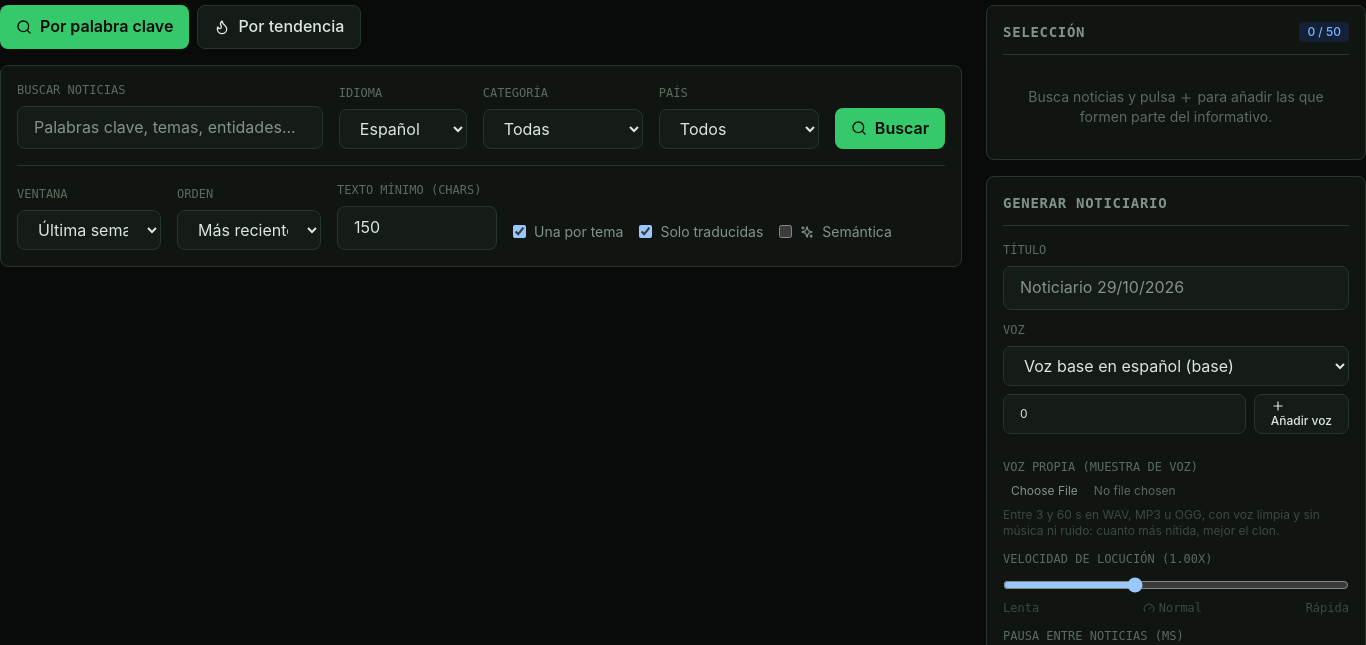
Test: Pagina de noticiario › renderiza sin AppProvider y detecta al admin desde localStorage
The image size is (1366, 645).
Type "economia" into the field with placeholder "Palabras clave, temas, entidades..." at (170,127), box top-left (17, 106), bottom-right (323, 149)
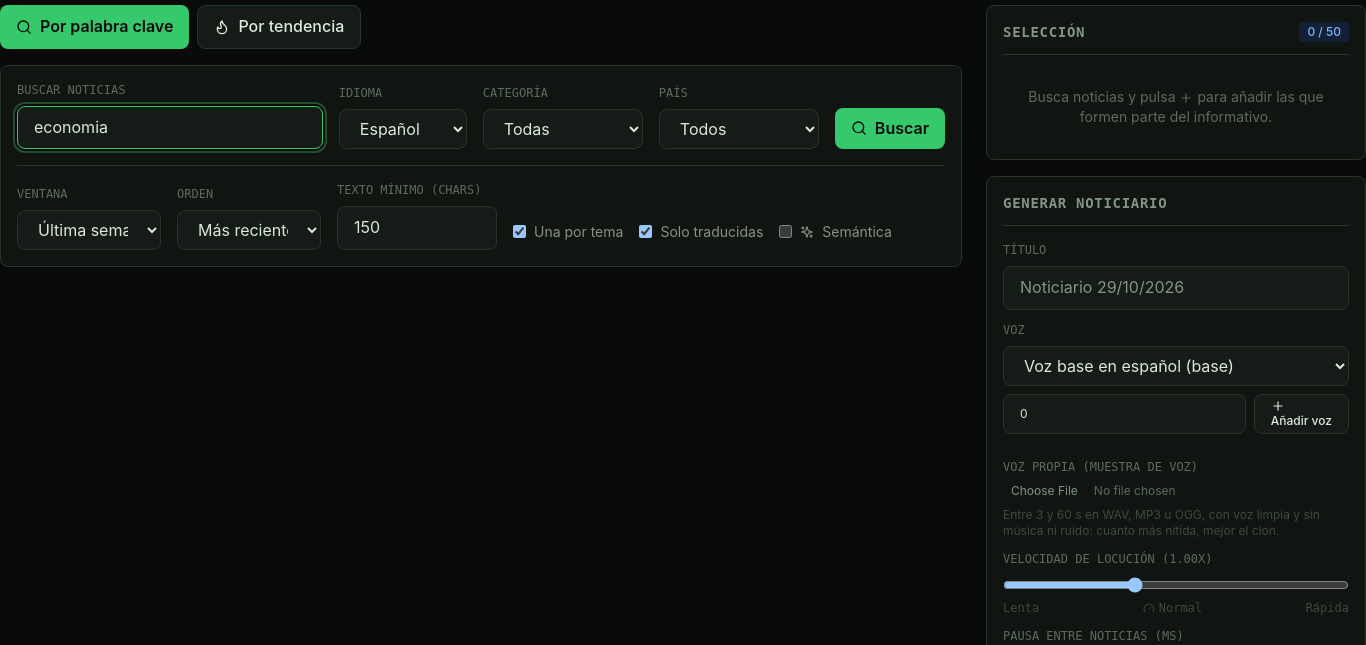
Click the button "Buscar" at (890,128), box top-left (835, 108), bottom-right (945, 149)
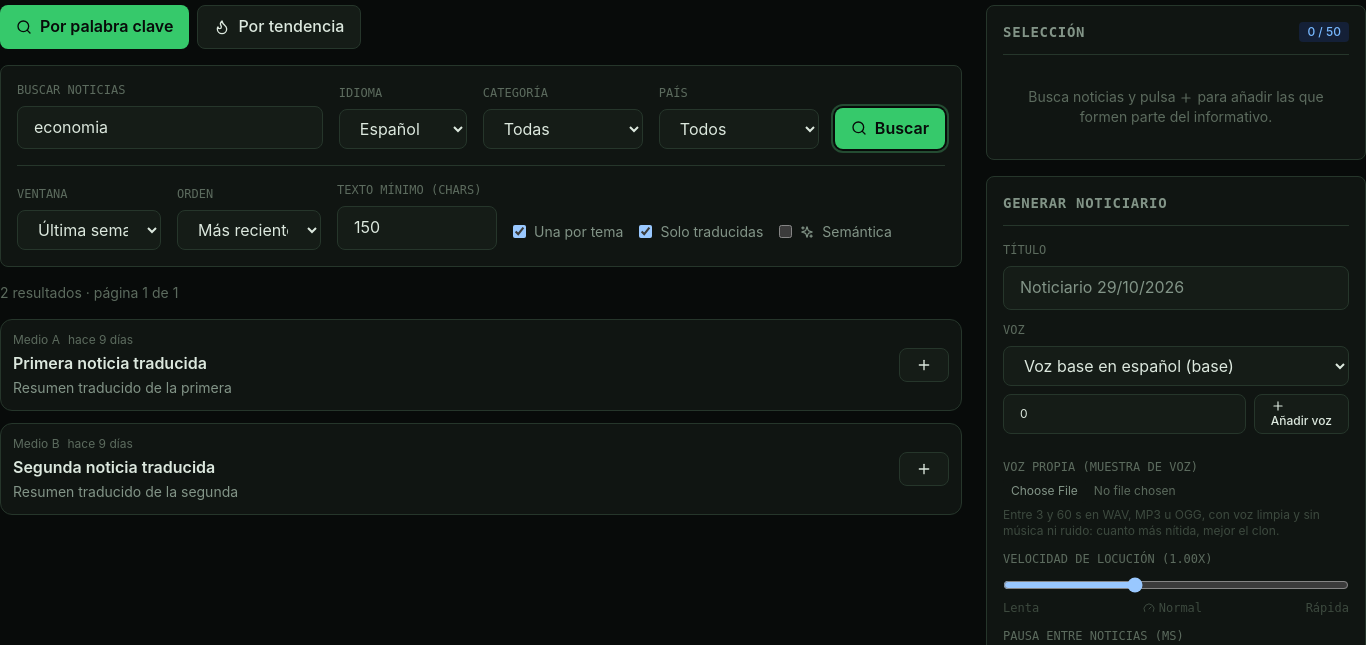
Now the heading "Primera noticia traducida" is shown, box top-left (13, 353), bottom-right (207, 373)
Click the button titled "Añadir al noticiario" in the row of "Resumen traducido de la primera" at (924,365), box top-left (899, 348), bottom-right (949, 382)
(page scrolled)
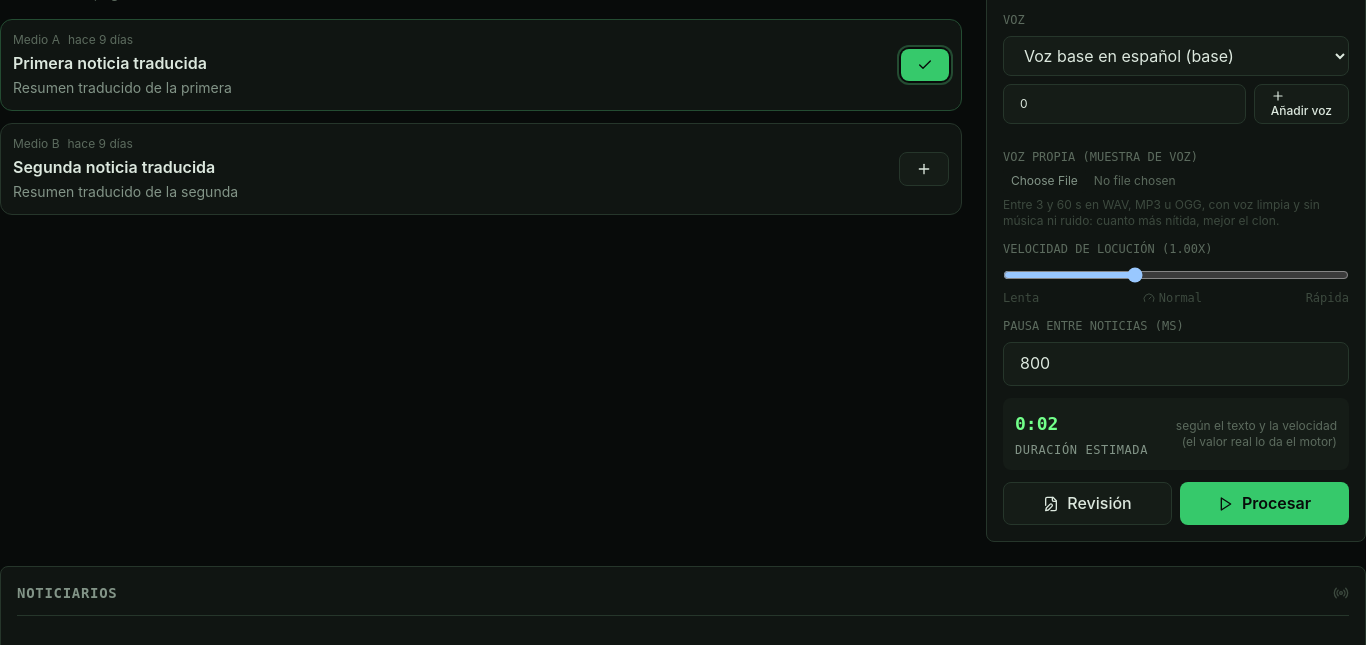
Click the button "Procesar" at (1264,504), box top-left (1180, 482), bottom-right (1349, 525)
(page scrolled)
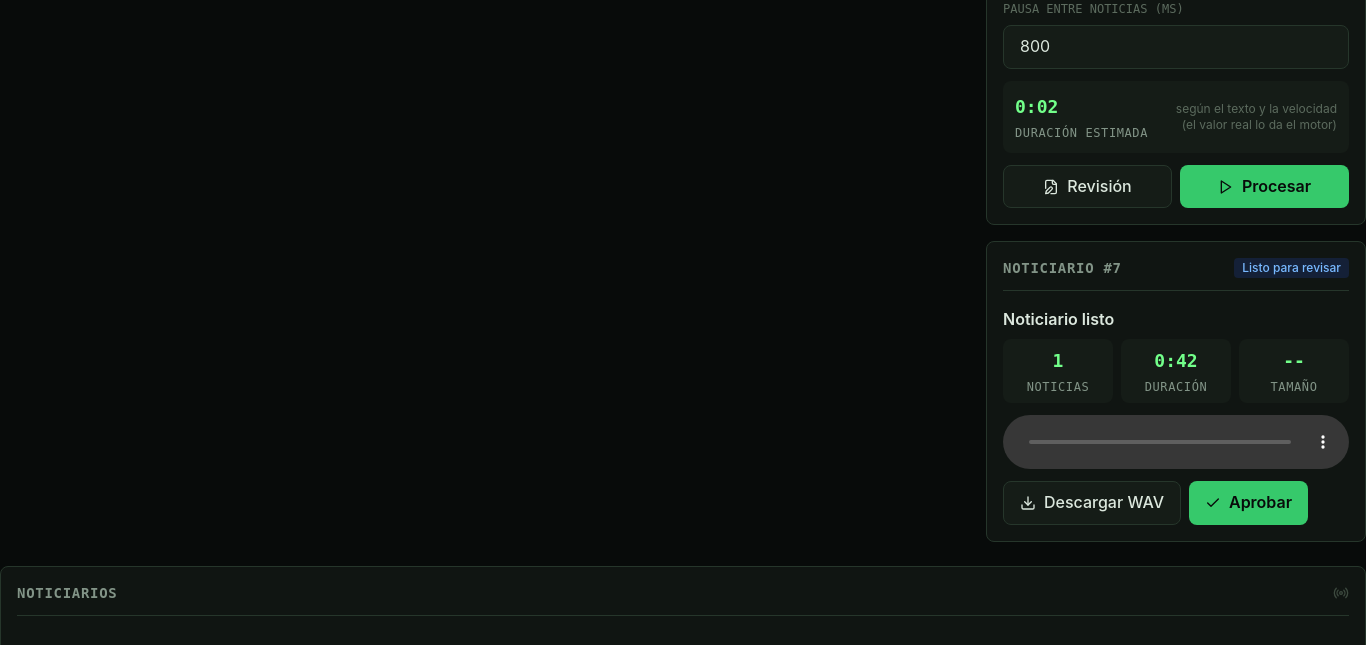
Now the button "Aprobar" is shown, box top-left (1189, 481), bottom-right (1308, 525)
